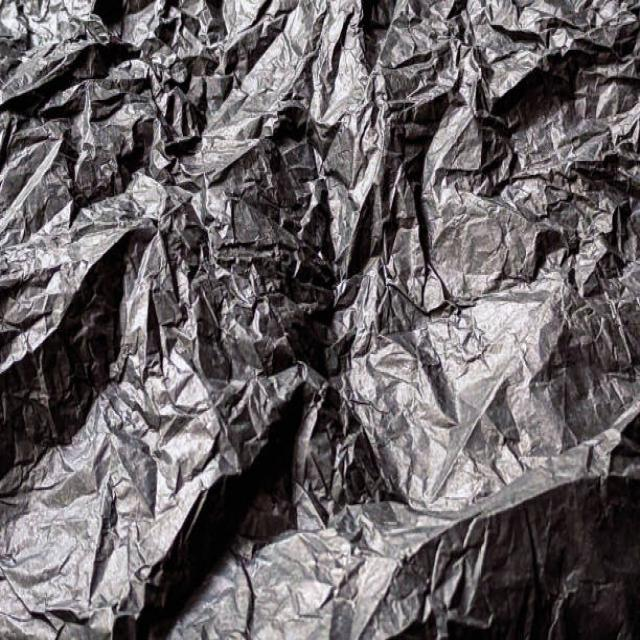paper: (105, 246, 352, 516), (351, 85, 568, 302), (389, 432, 604, 640), (60, 36, 254, 186)
